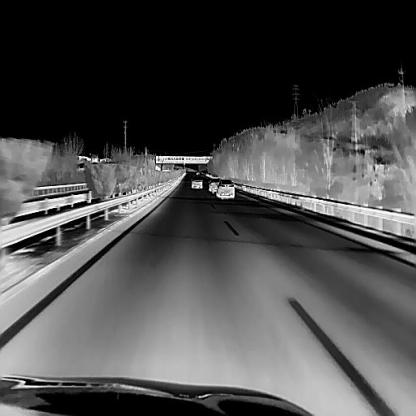car: (215, 177, 234, 198), (190, 174, 203, 188), (208, 178, 220, 191)
